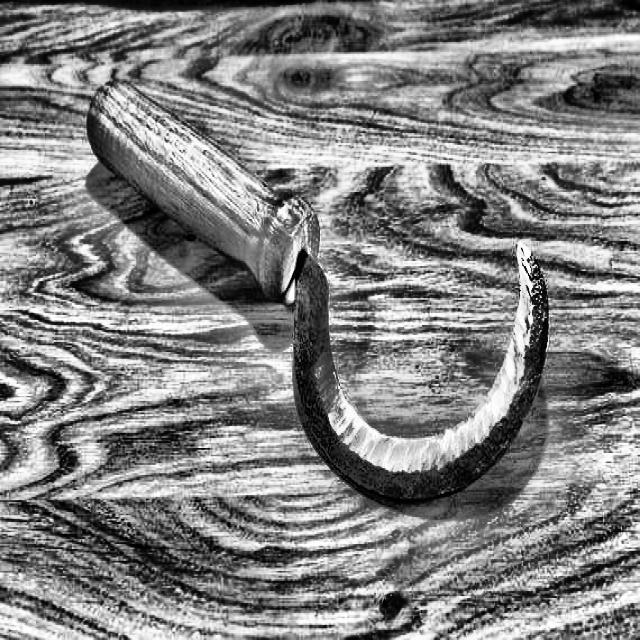celurit: (76, 59, 554, 505)
